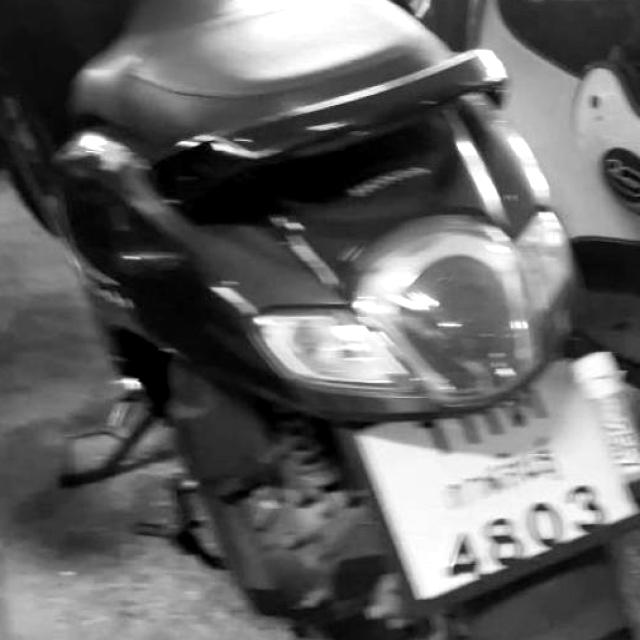letters: (475, 519, 522, 565), (416, 408, 456, 460), (442, 536, 488, 579), (461, 403, 500, 449), (532, 498, 566, 546), (572, 480, 602, 530), (507, 392, 546, 426)
license-plate: (344, 359, 638, 610)
province: (418, 456, 575, 489)
